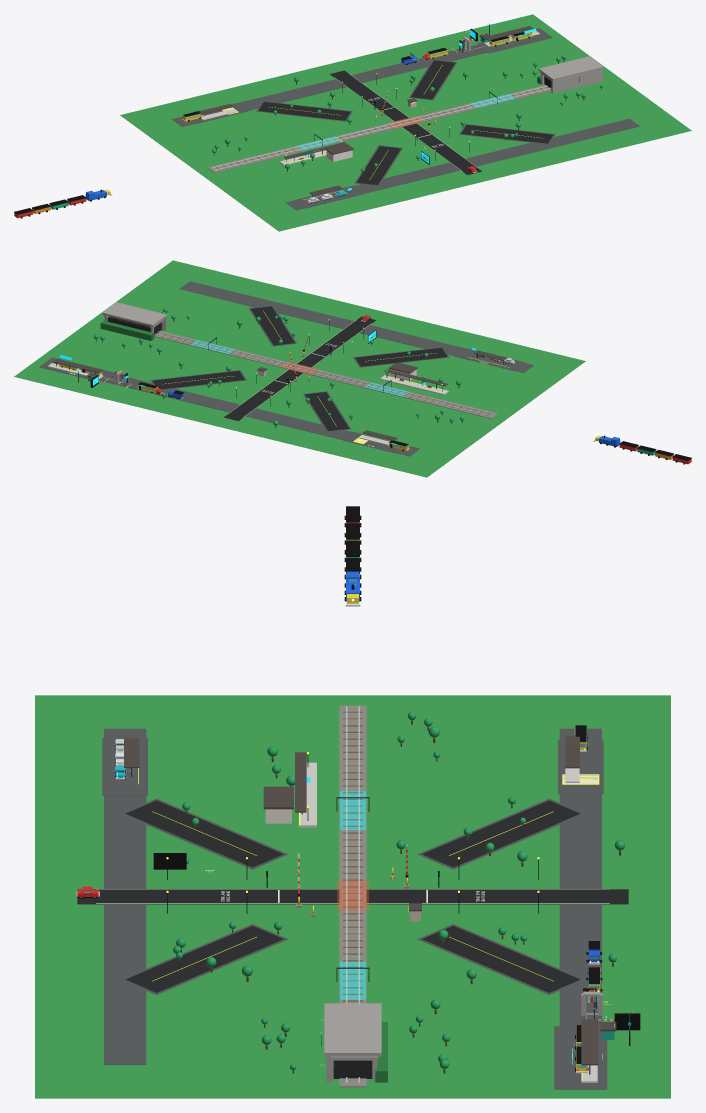
The model's file is ONR.glb.
3 renders of one model, top to bottom at view 1: azimuth 30°, elevation 25°; view 2: azimuth 150°, elevation 25°; view 3: azimuth 270°, elevation 25°, orthographic. The views are drawn at different scales.
Visible parts, largest first — view 1: large_grass_terrain, lower_service_road, upper_service_road, rail_ballast_bed, main_vertical_road_single_lane, north_west_corner_road, south_east_corner_road, north_east_corner_road, south_west_corner_road, east_tunnel_roof_shell, east_tunnel_south_wall, taxi_stand_base (+3 smaller); view 2: large_grass_terrain, lower_service_road, rail_ballast_bed, upper_service_road, main_vertical_road_single_lane, south_west_corner_road, north_east_corner_road, east_tunnel_roof_shell, north_west_corner_road, south_east_corner_road, taxi_stand_base, continuous_steel_rail_y_1.15 (+5 smaller); view 3: large_grass_terrain, lower_service_road, upper_service_road, rail_ballast_bed, main_vertical_road_single_lane, south_west_corner_road, north_east_corner_road, south_east_corner_road, north_west_corner_road, east_tunnel_roof_shell, east_bus_hub_base, taxi_stand_base (+4 smaller).
Boxes of the visible parts, x1,y1,x2,y2 form: large_grass_terrain: (120, 14, 691, 231); lower_service_road: (286, 118, 639, 210); upper_service_road: (172, 45, 486, 126); rail_ballast_bed: (207, 76, 604, 172); main_vertical_road_single_lane: (330, 70, 481, 174); north_west_corner_road: (258, 102, 350, 120); south_east_corner_road: (461, 125, 553, 143); north_east_corner_road: (411, 60, 455, 99); south_west_corner_road: (356, 146, 400, 184); east_tunnel_roof_shell: (538, 56, 603, 80); east_tunnel_south_wall: (551, 68, 602, 93); taxi_stand_base: (294, 185, 364, 208); large_grass_terrain: (14, 260, 585, 477); lower_service_road: (180, 281, 533, 372); rail_ballast_bed: (154, 331, 498, 418); upper_service_road: (105, 374, 419, 456); main_vertical_road_single_lane: (224, 316, 375, 420); south_west_corner_road: (355, 348, 447, 366); north_east_corner_road: (152, 371, 244, 389); east_tunnel_roof_shell: (102, 302, 167, 326); north_west_corner_road: (305, 392, 349, 430); south_east_corner_road: (250, 306, 294, 345); taxi_stand_base: (455, 348, 525, 370); continuous_steel_rail_y_1.15: (155, 334, 491, 416); large_grass_terrain: (35, 695, 670, 1098); lower_service_road: (104, 728, 146, 1064); upper_service_road: (559, 728, 601, 1026); rail_ballast_bed: (339, 705, 366, 1087); main_vertical_road_single_lane: (77, 889, 628, 904); south_west_corner_road: (125, 800, 283, 867); north_east_corner_road: (422, 926, 580, 992); south_east_corner_road: (125, 926, 283, 992); north_west_corner_road: (422, 800, 580, 867); east_tunnel_roof_shell: (324, 1003, 381, 1056); east_bus_hub_base: (554, 1026, 607, 1089); taxi_stand_base: (102, 737, 147, 795).
Size of the model in its own units: 260 by 13.41 by 120.
